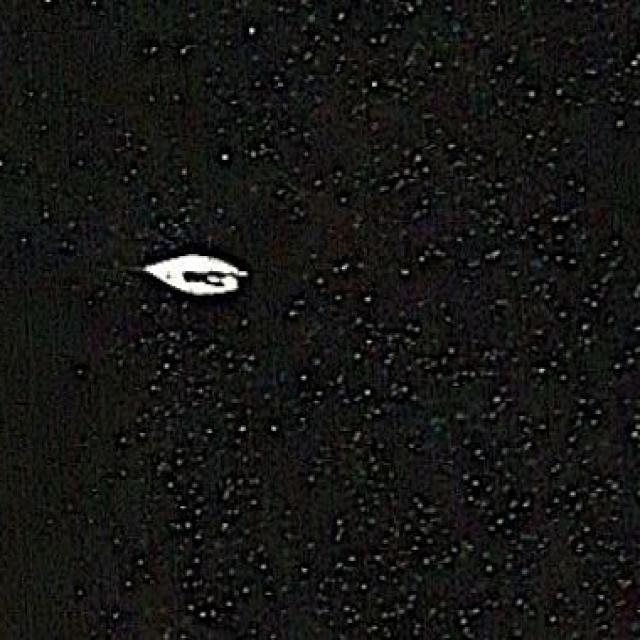ship: (142, 250, 246, 296)
